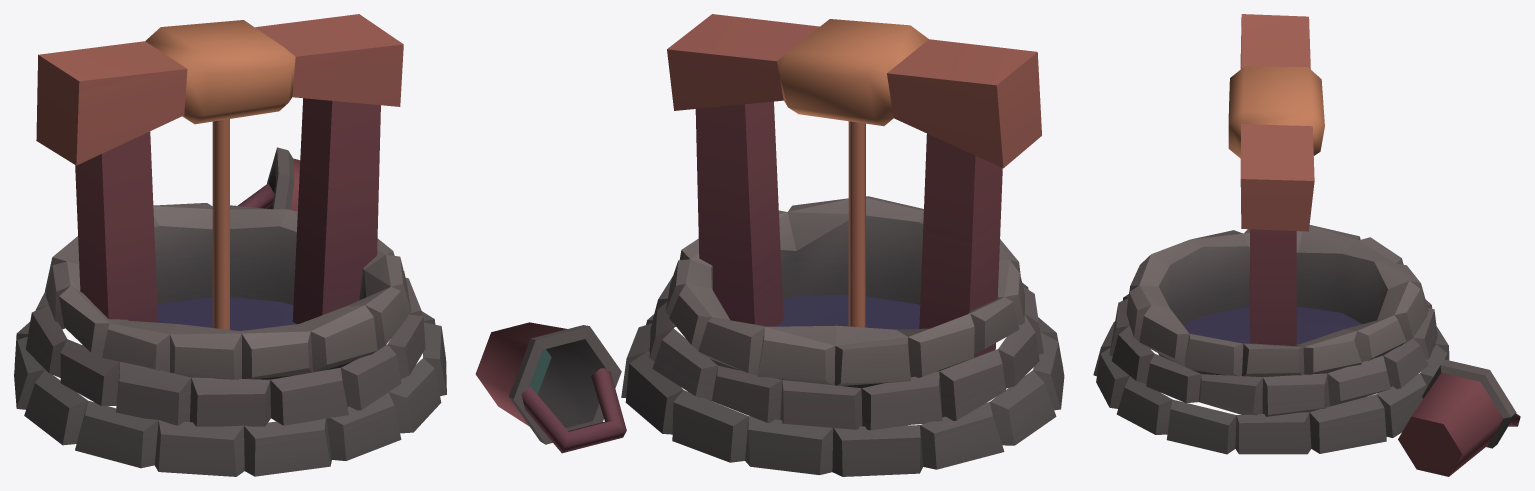
The model's file is Well.obj.
3 views of the same model, side by side, from view 1: azimuth 30°, elevation 25°; view 2: azimuth 150°, elevation 25°; view 3: azimuth 270°, elevation 25° (orthographic). The views are drawn at different scales.
Parts seen in each view (by area): view 1: {mesh}Well_Cube.012; view 2: {mesh}Well_Cube.012; view 3: {mesh}Well_Cube.012.
Boxes of the visible parts, x1=… form: {mesh}Well_Cube.012: x1=14, y1=14, x2=446, y2=476; {mesh}Well_Cube.012: x1=475, y1=14, x2=1064, y2=476; {mesh}Well_Cube.012: x1=1093, y1=14, x2=1520, y2=476.
Size of the model in its own units: 92.28 by 71.84 by 93.51.
